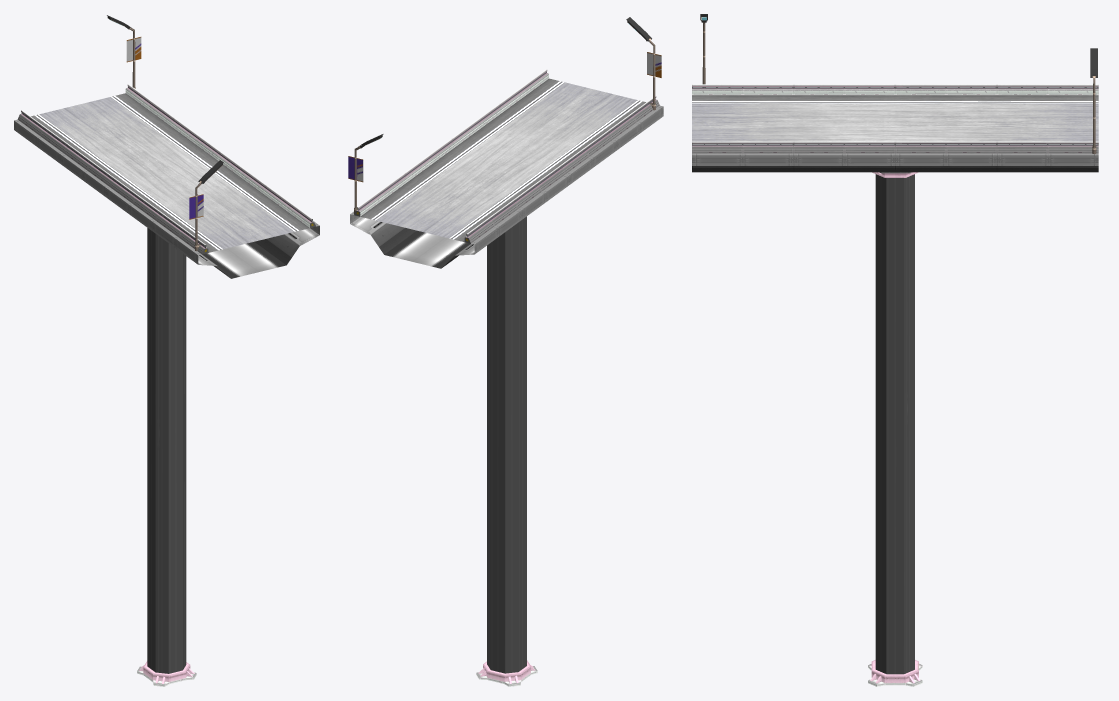
The picture shows the model from 3 angles, left to right: view 1: azimuth 30°, elevation 25°; view 2: azimuth 150°, elevation 25°; view 3: azimuth 270°, elevation 25°; orthographic projection. The views are drawn at different scales.
Parts seen in each view (by area): view 1: support_pylon, nar_road_straight, nar_bridge, nar_wall_elevated_straight, support_ground, pro_streetlight_banner, pro_streetlight_banner_1; view 2: nar_road_straight, support_pylon, nar_bridge, nar_wall_elevated_straight, support_ground, pro_streetlight_banner, pro_streetlight_banner_1; view 3: support_pylon, nar_road_straight, nar_wall_elevated_straight, nar_bridge, support_ground.
Boxes of the visible parts, x1=… form: support_pylon: x1=147, y1=228, x2=186, y2=673; nar_road_straight: x1=31, y1=93, x2=309, y2=252; nar_bridge: x1=14, y1=119, x2=319, y2=278; nar_wall_elevated_straight: x1=17, y1=84, x2=316, y2=254; support_ground: x1=137, y1=661, x2=196, y2=686; pro_streetlight_banner: x1=189, y1=160, x2=223, y2=251; pro_streetlight_banner_1: x1=107, y1=15, x2=141, y2=88; nar_road_straight: x1=360, y1=78, x2=645, y2=241; support_pylon: x1=487, y1=216, x2=526, y2=673; nar_bridge: x1=350, y1=105, x2=663, y2=268; nar_wall_elevated_straight: x1=354, y1=69, x2=659, y2=243; support_ground: x1=476, y1=660, x2=537, y2=686; pro_streetlight_banner: x1=626, y1=17, x2=661, y2=110; pro_streetlight_banner_1: x1=348, y1=134, x2=383, y2=213; support_pylon: x1=875, y1=174, x2=914, y2=674; nar_road_straight: x1=692, y1=95, x2=1098, y2=144; nar_wall_elevated_straight: x1=692, y1=84, x2=1098, y2=153; nar_bridge: x1=692, y1=153, x2=1098, y2=172; support_ground: x1=868, y1=660, x2=922, y2=686.
Size of the model in its own units: 2580 by 11191 by 6499.
